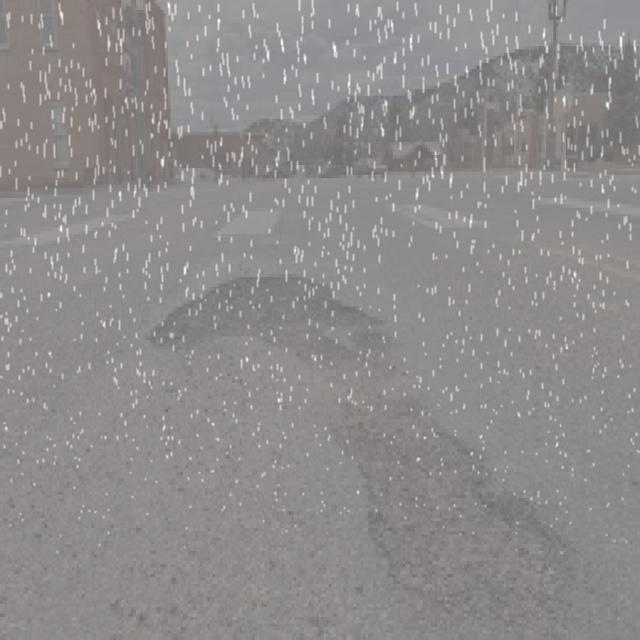Pothole: (318, 395, 569, 640), (136, 254, 416, 384)
